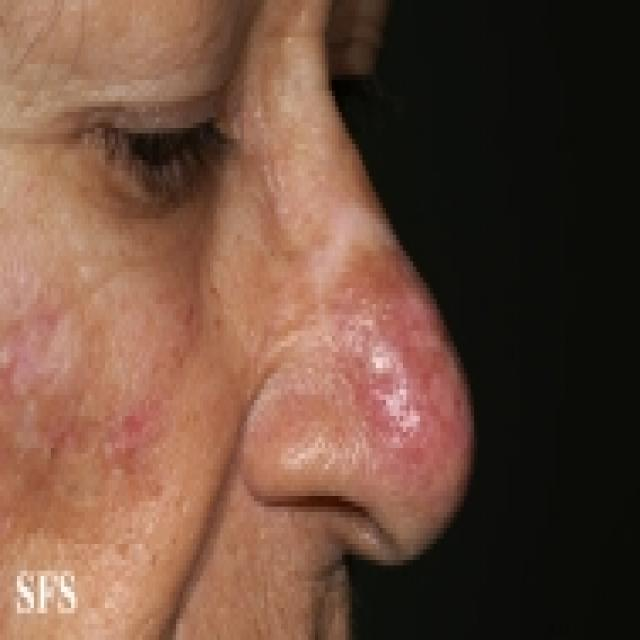lupus: (243, 238, 500, 547), (0, 240, 159, 571)
